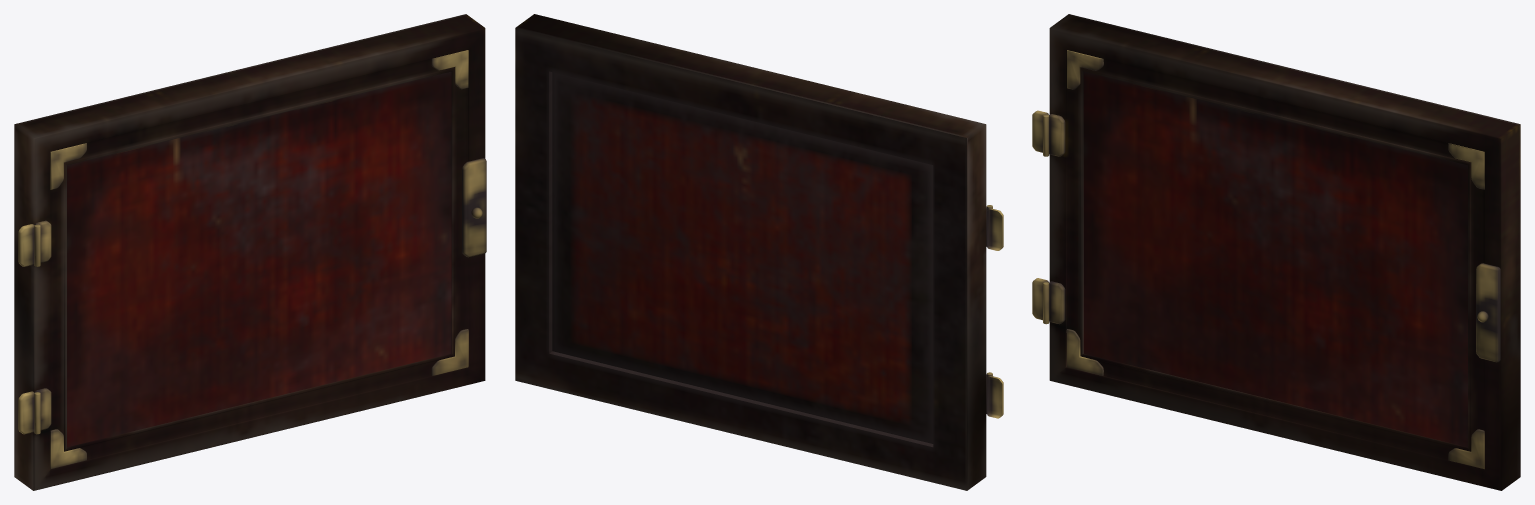
File: SM_BookCabinet224_door07.fbx
The picture shows the model from 3 angles, left to right: view 1: azimuth 30°, elevation 25°; view 2: azimuth 150°, elevation 25°; view 3: azimuth 330°, elevation 25°; orthographic projection.
Visible parts, largest first — view 1: SM_BookCabinet224_door07; view 2: SM_BookCabinet224_door07; view 3: SM_BookCabinet224_door07.
Part boxes in pixels (x1,y1,x2,y2): SM_BookCabinet224_door07: (14, 14, 486, 490); SM_BookCabinet224_door07: (515, 14, 1003, 490); SM_BookCabinet224_door07: (1032, 14, 1520, 490).
Bounding box in the file's own units: 58.02 × 41.86 × 5.82.
